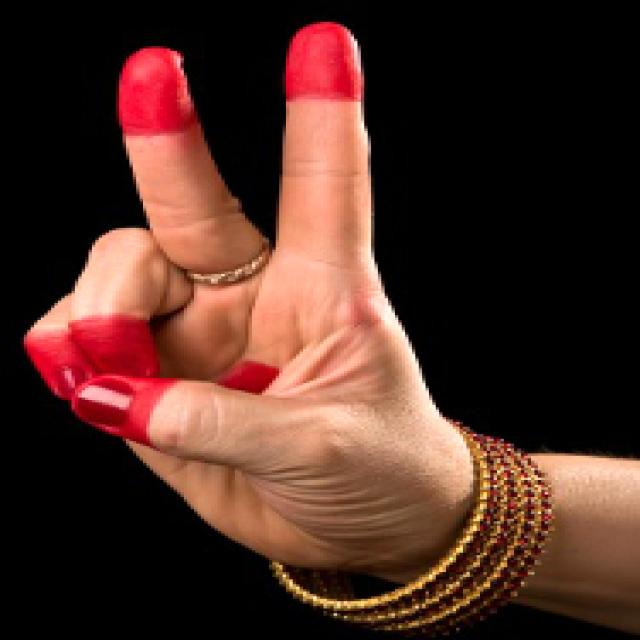Katakamukha: (14, 9, 504, 600)
